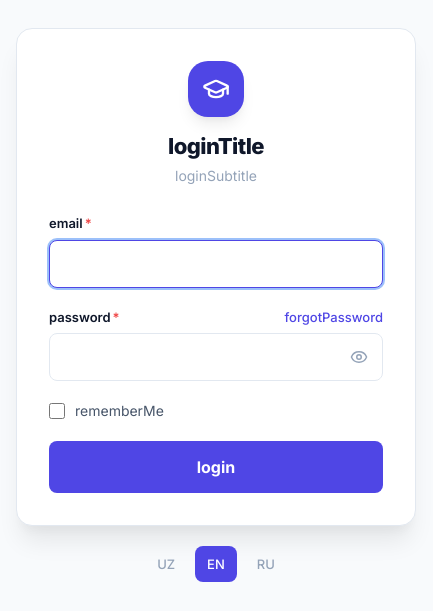
Test case: LoginPage › validation › shows required error for empty password on submit
In the field labelled "email*": (216, 264) x1=49 y1=240 x2=383 y2=288, type "test@example.com"
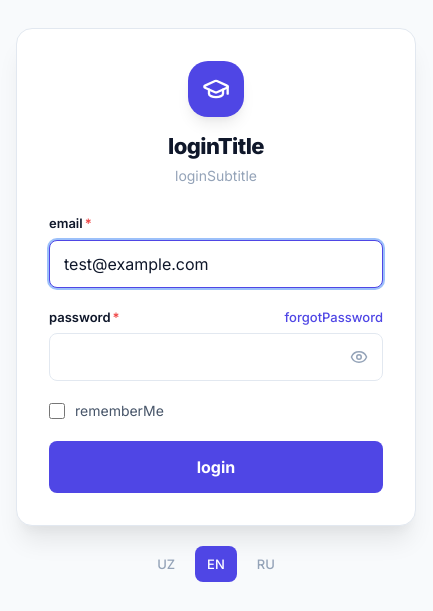
Click the button "login": (216, 467) x1=49 y1=441 x2=383 y2=493
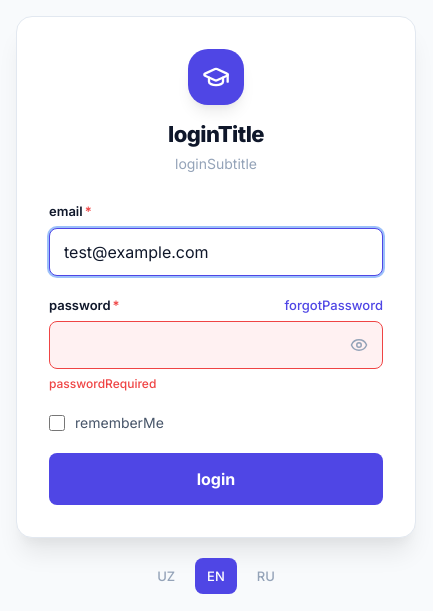
Expected: the message "passwordRequired" is shown, x1=49 y1=376 x2=156 y2=391
